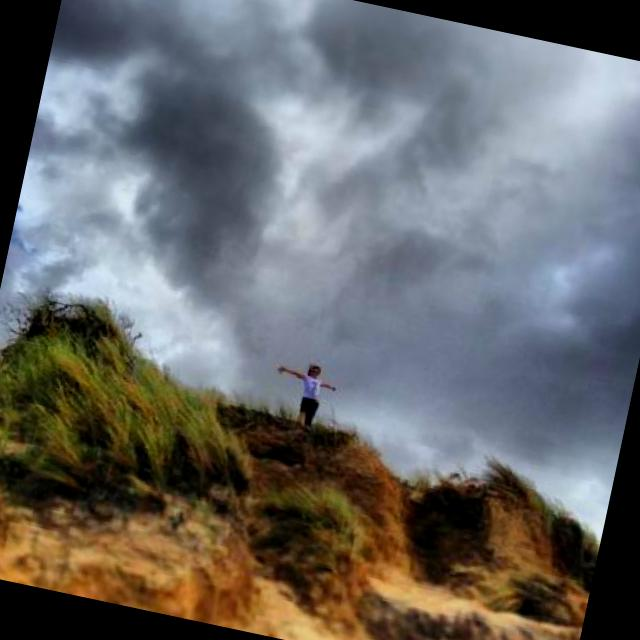Person: (260, 352, 340, 432)
